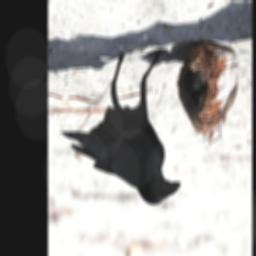Crow: (59, 46, 181, 205)
